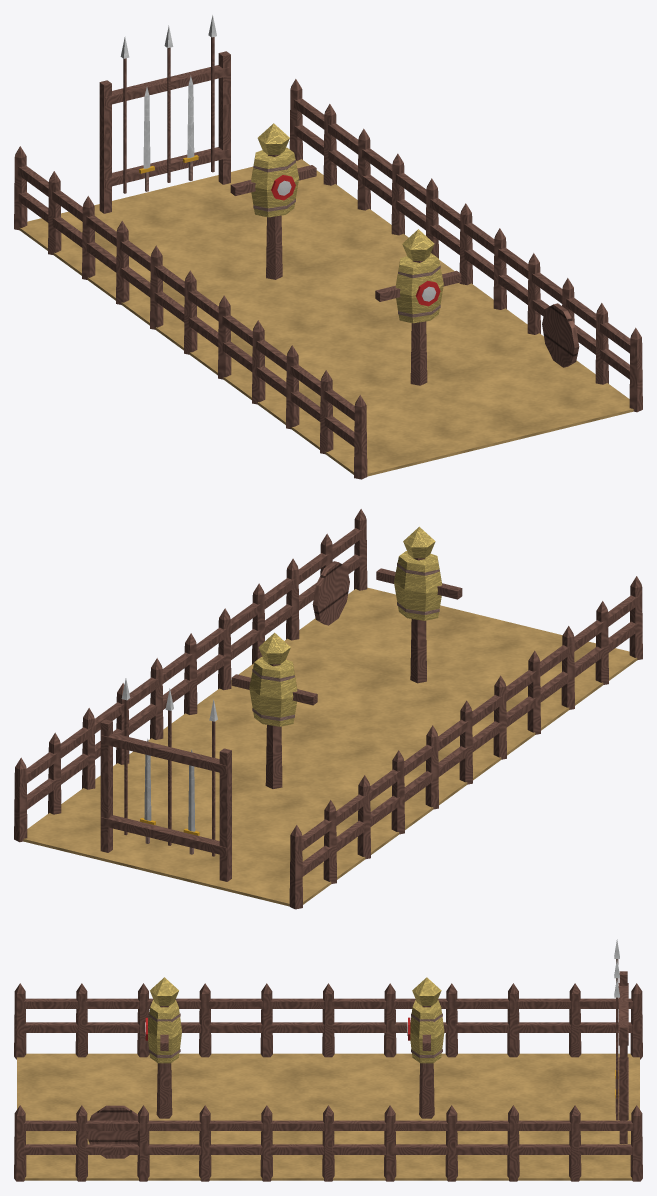
Rendered from training.glb.
3 views of the same model, one above another, from view 1: azimuth 30°, elevation 25°; view 2: azimuth 150°, elevation 25°; view 3: azimuth 270°, elevation 25° (orthographic). The views are drawn at different scales.
Parts seen in each view (by area): view 1: base_mesh, sway_0_mesh, sway_1_mesh; view 2: base_mesh, sway_1_mesh, sway_0_mesh; view 3: base_mesh, sway_1_mesh, sway_0_mesh.
Part boxes in pixels (left/top/right/bottom): base_mesh: left=14, top=15, right=642, bottom=479; sway_0_mesh: left=375, top=229, right=461, bottom=385; sway_1_mesh: left=230, top=123, right=316, bottom=279; base_mesh: left=14, top=509, right=642, bottom=909; sway_1_mesh: left=231, top=632, right=317, bottom=788; sway_0_mesh: left=376, top=526, right=462, bottom=683; base_mesh: left=14, top=939, right=642, bottom=1181; sway_1_mesh: left=407, top=977, right=444, bottom=1118; sway_0_mesh: left=145, top=977, right=181, bottom=1118.
Bounding box in the file's own units: 1.83 × 1.08 × 3.84.
Materials: 10 (9 with a texture image).
